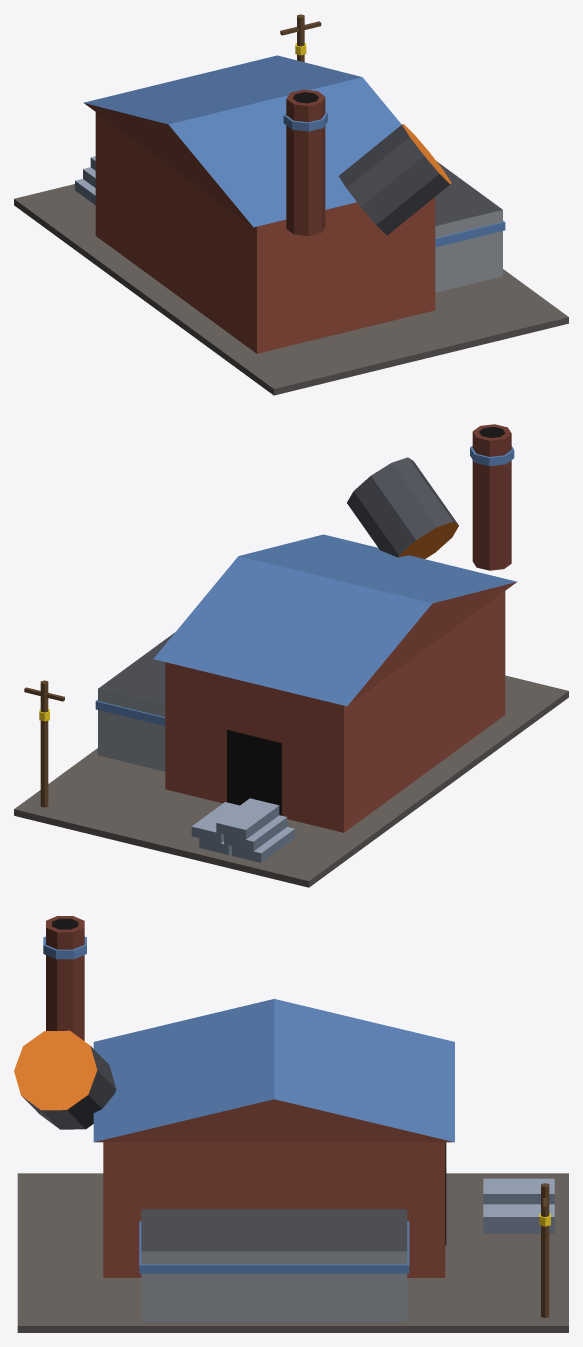
Rendered from steel_mill.obj.
3 views of the same model, one above another, from view 1: azimuth 30°, elevation 25°; view 2: azimuth 150°, elevation 25°; view 3: azimuth 270°, elevation 25° (orthographic). The views are drawn at different scales.
Size of the model in its own units: 3.8 by 3.3 by 5.84.
